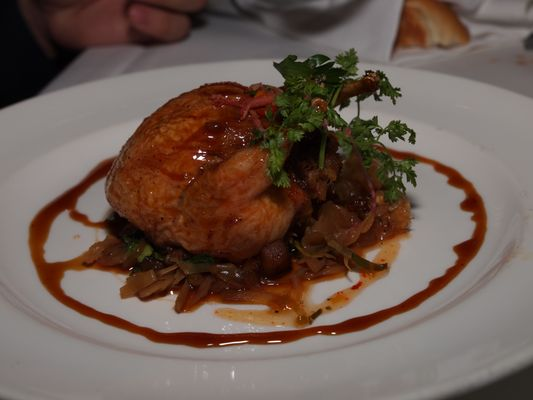curry: (23, 1, 533, 400)
